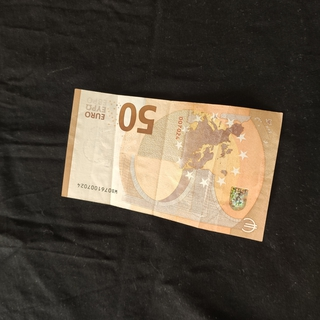50EUROBack: (59, 87, 284, 243)
